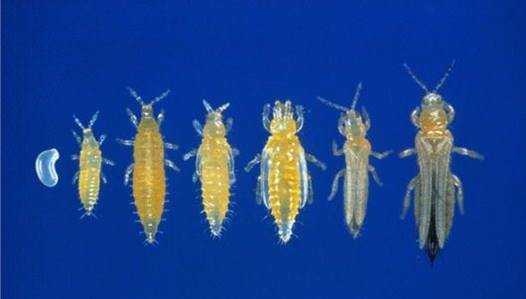Thrips: (389, 66, 495, 269), (252, 77, 325, 257), (115, 74, 185, 260), (326, 83, 396, 245), (180, 90, 246, 248), (59, 110, 122, 226)
